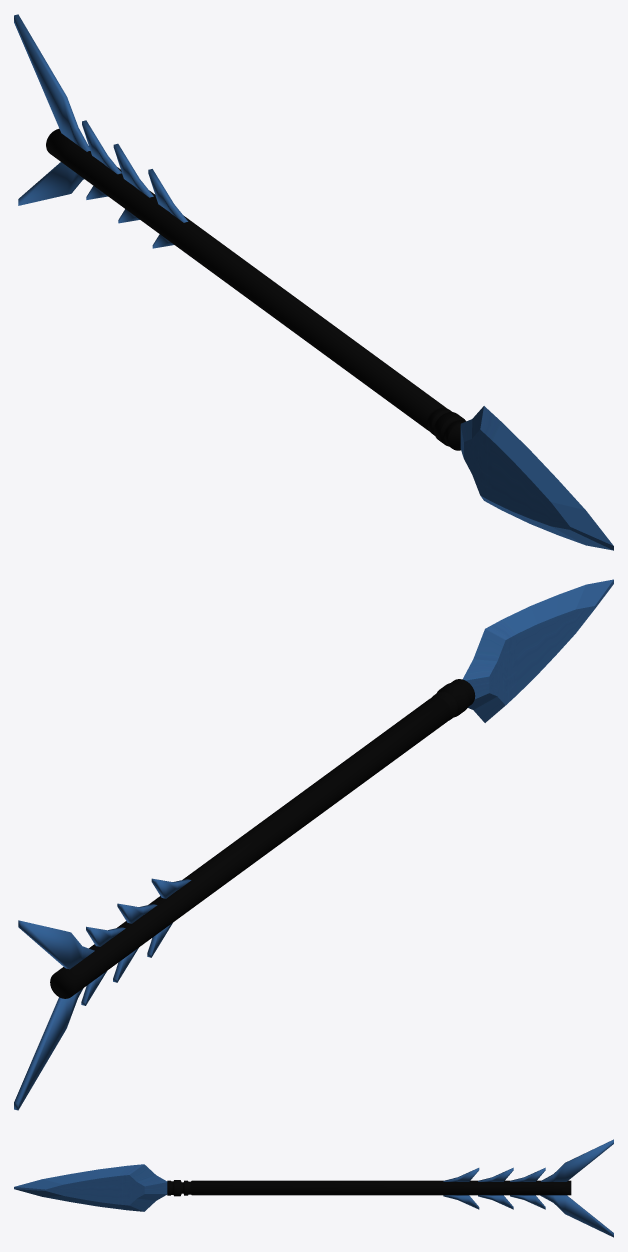
The model's file is Arrow_Water.glb.
3 renders of one model, top to bottom at view 1: azimuth 30°, elevation 25°; view 2: azimuth 150°, elevation 25°; view 3: azimuth 270°, elevation 25°, orthographic. The views are drawn at different scales.
Visible parts, largest first — view 1: Arrow_Water; view 2: Arrow_Water; view 3: Arrow_Water.
Boxes of the visible parts, x1=… form: Arrow_Water: x1=14, y1=14, x2=613, y2=550; Arrow_Water: x1=14, y1=579, x2=613, y2=1110; Arrow_Water: x1=14, y1=1139, x2=613, y2=1237.
Bounding box in the file's own units: 0.0217 × 0.1415 × 0.8.
2 materials, 1 textured.
